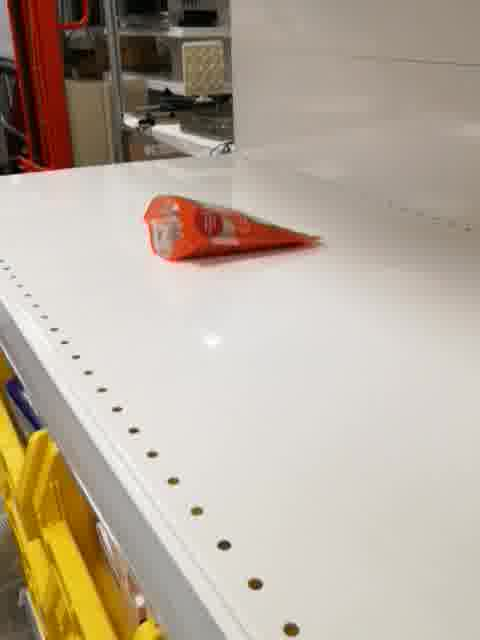whitechia: (141, 190, 325, 264)
